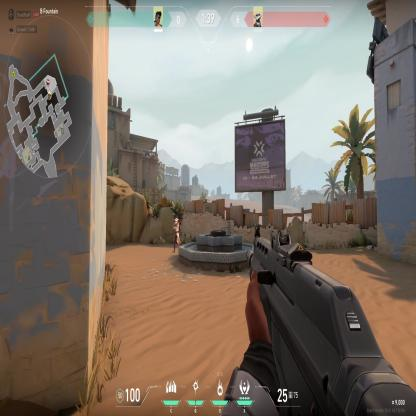enemy: (172, 217, 181, 253)
